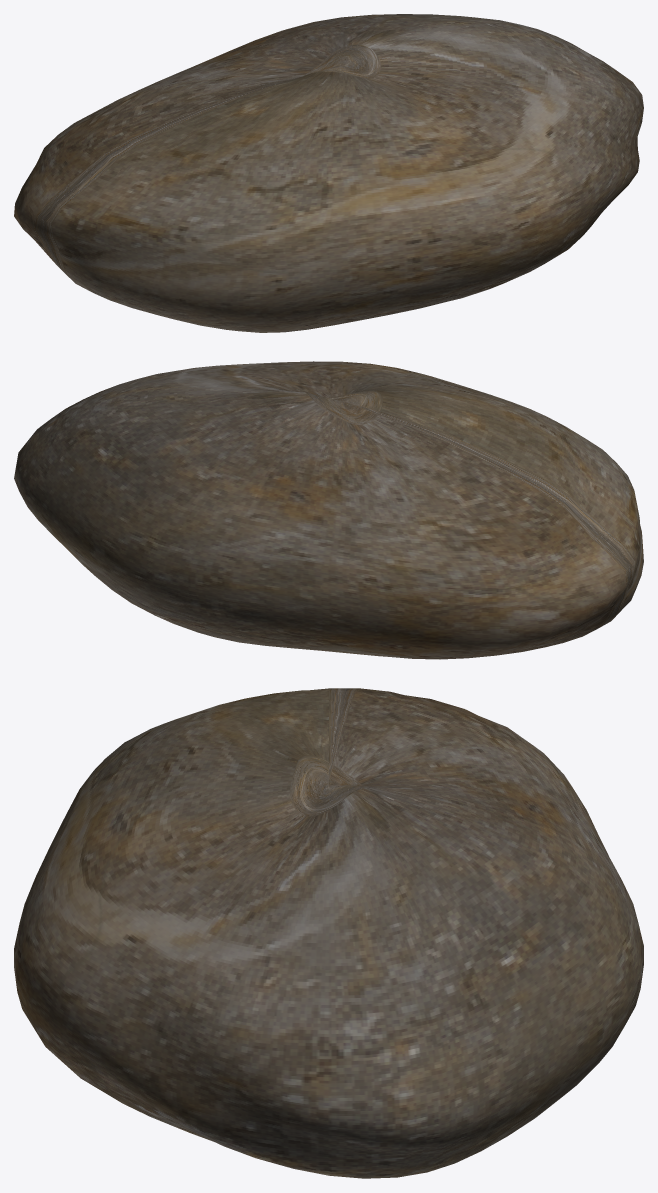
File: variant-01.glb
The picture shows the model from 3 angles, top to bottom: view 1: azimuth 30°, elevation 25°; view 2: azimuth 150°, elevation 25°; view 3: azimuth 270°, elevation 25°; orthographic projection. The views are drawn at different scales.
Visible parts, largest first — view 1: RiverPebble_01; view 2: RiverPebble_01; view 3: RiverPebble_01.
Boxes of the visible parts, <box> form: RiverPebble_01: <box>14,14,643,332</box>; RiverPebble_01: <box>14,361,643,659</box>; RiverPebble_01: <box>14,688,643,1178</box>.
Bounding box in the file's own units: 1.1 × 0.3939 × 0.7421.
Materials: 1 (1 with a texture image).
